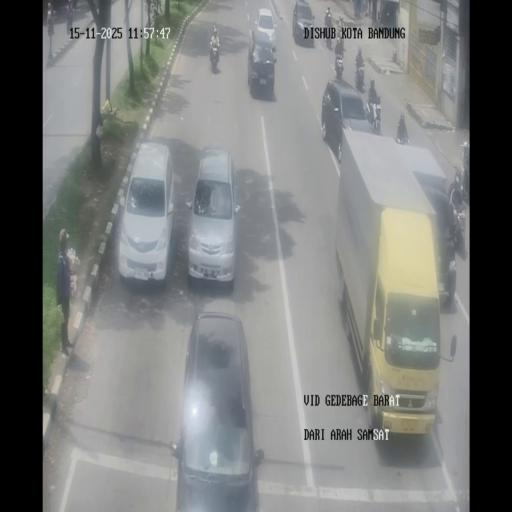car: (171, 310, 262, 510), (117, 140, 174, 284), (186, 144, 239, 285), (419, 180, 462, 304), (321, 78, 375, 162), (248, 31, 276, 97), (292, 0, 315, 46)
motorcycle: (460, 142, 470, 198), (366, 97, 381, 134), (354, 58, 366, 90), (334, 51, 345, 80), (209, 41, 220, 69), (325, 22, 334, 50), (396, 126, 410, 144), (66, 2, 74, 32), (336, 16, 344, 44), (361, 0, 368, 17), (376, 6, 382, 23), (71, 0, 77, 11)
truck: (336, 132, 446, 434)
